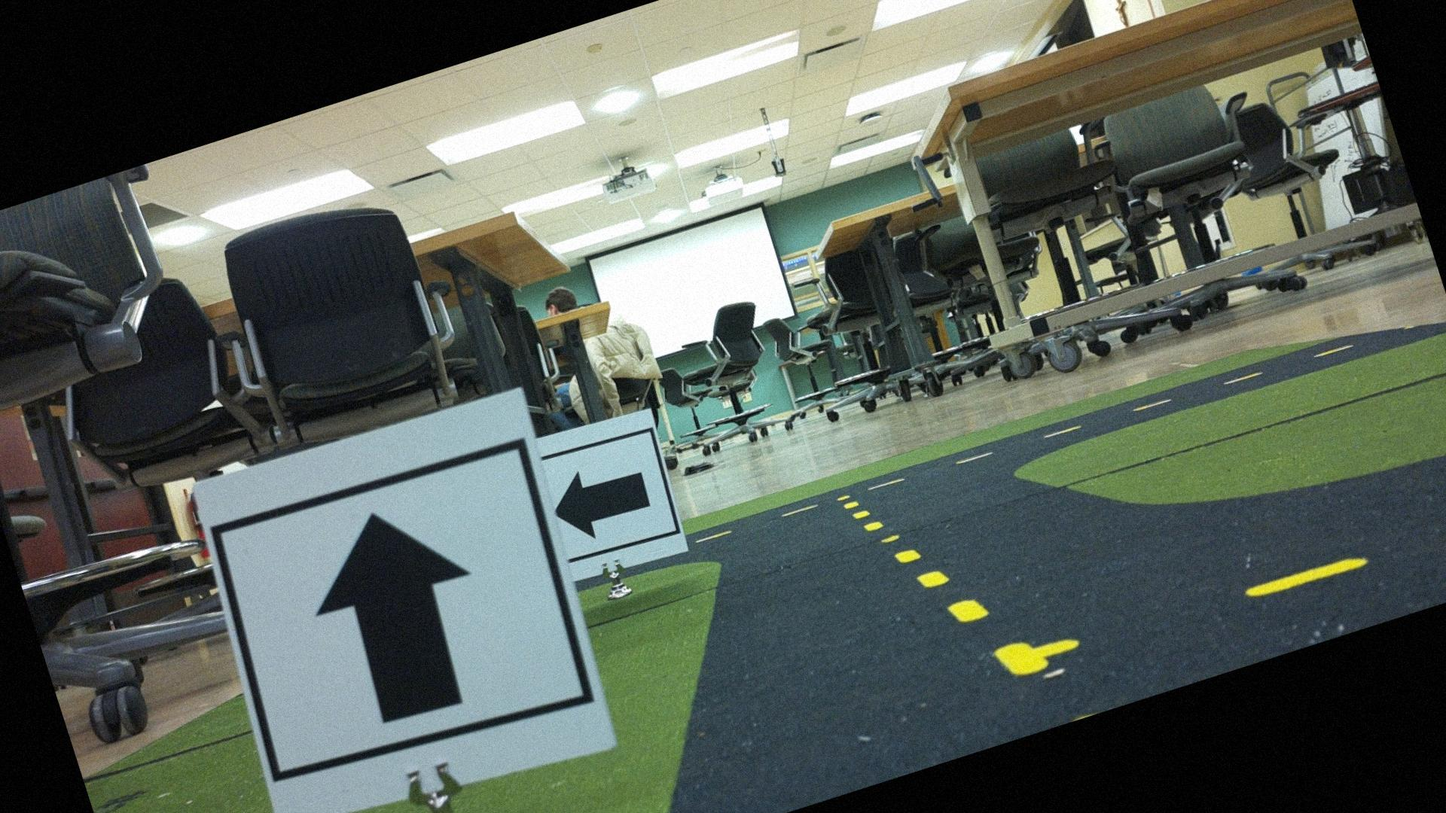gostraight: (201, 394, 613, 812)
turnleft: (535, 425, 685, 580)
yellowline: (845, 459, 1046, 711)
